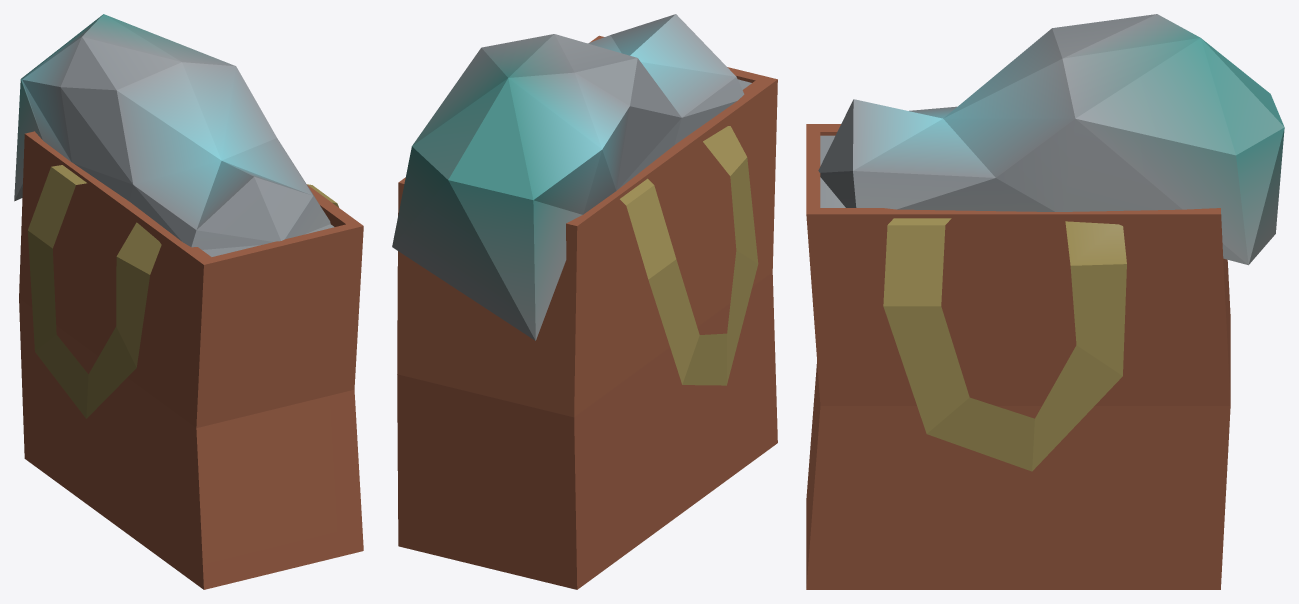
The model's file is Clothes Bag.fbx.
3 views of the same model, side by side, from view 1: azimuth 30°, elevation 25°; view 2: azimuth 150°, elevation 25°; view 3: azimuth 270°, elevation 25° (orthographic). The views are drawn at different scales.
Visible parts, largest first — view 1: Cube; view 2: Cube; view 3: Cube.
Part boxes in pixels (x1=…): Cube: x1=14, y1=14, x2=363, y2=589; Cube: x1=392, y1=14, x2=777, y2=589; Cube: x1=806, y1=14, x2=1284, y2=589.
Bounding box in the file's own units: 157 × 268 × 231.
